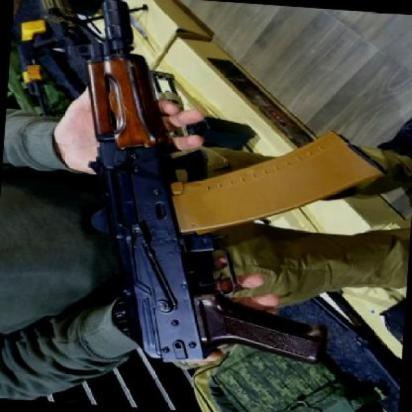Gun: (51, 0, 394, 390)
